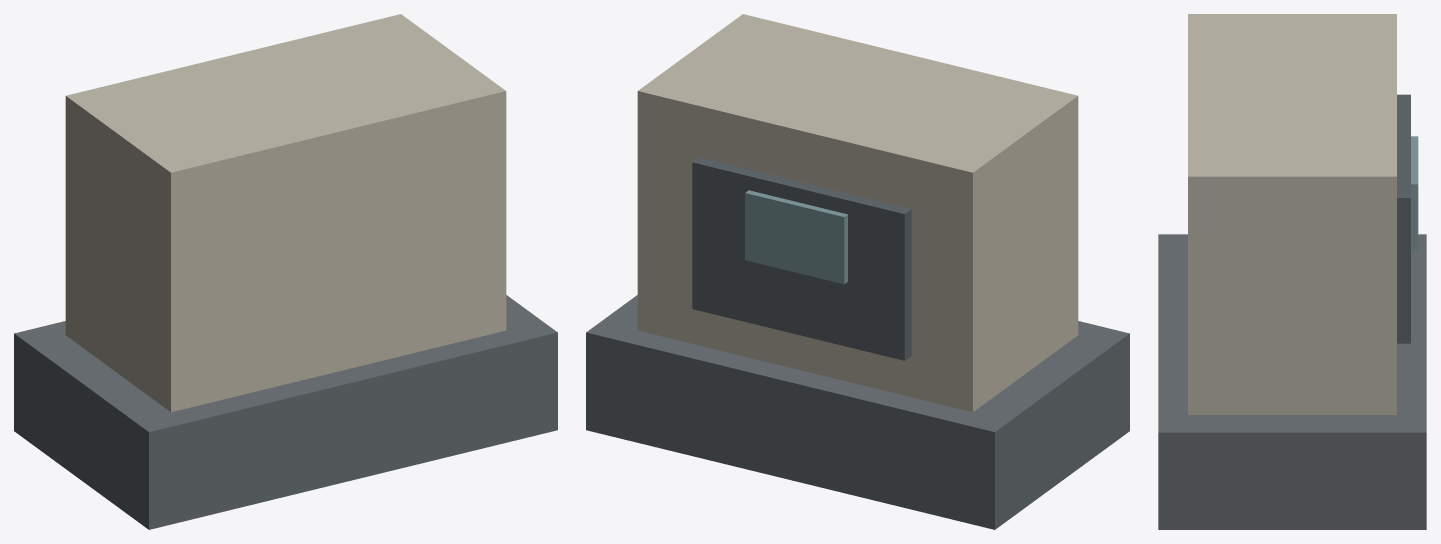
File: iz3_production_generator_01.glb
3 renders of one model, left to right at view 1: azimuth 30°, elevation 25°; view 2: azimuth 150°, elevation 25°; view 3: azimuth 270°, elevation 25°, orthographic.
Visible parts, largest first — view 1: cabinet, base; view 2: cabinet, base, panel, display; view 3: cabinet, base, panel, display.
Part boxes in pixels (x1,y1,x2,y2): cabinet: (65, 14, 506, 412); base: (14, 295, 557, 529); cabinet: (637, 14, 1078, 412); base: (586, 295, 1129, 529); panel: (692, 157, 911, 360); display: (745, 190, 847, 284); cabinet: (1188, 14, 1396, 414); base: (1158, 234, 1426, 529); panel: (1397, 94, 1410, 343); display: (1411, 136, 1418, 251).
Size of the model in its own units: 1.4 by 1.1 by 0.8.
